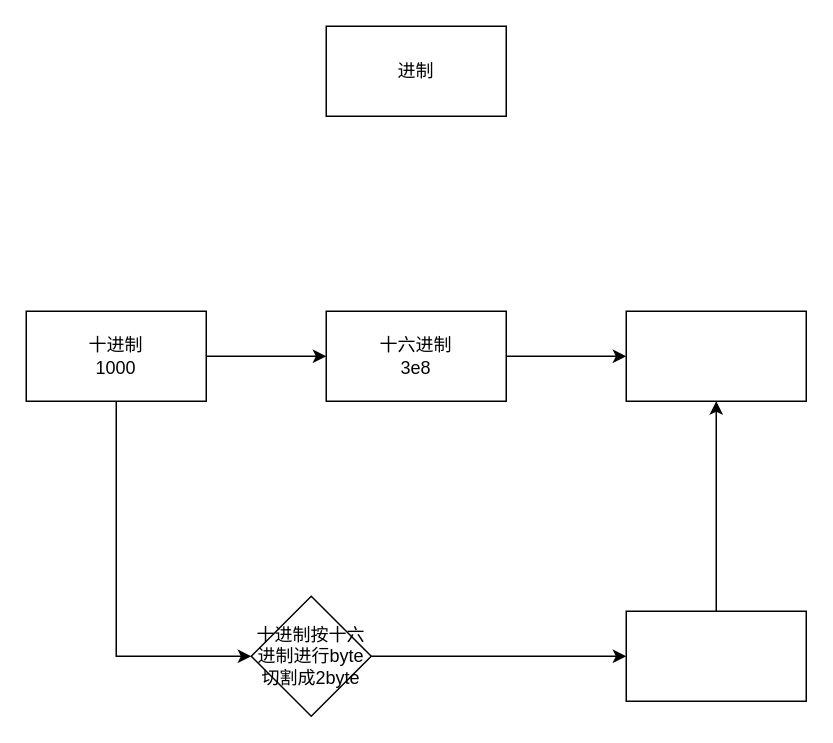
This 833x743 diagram has some shape labels left out. Each missing label, with the centre of its shape:
十六进制得10进制表示 232: pixel 715 355
对切割后得十六进制每个byte进行10进制转换: pixel 715 655
